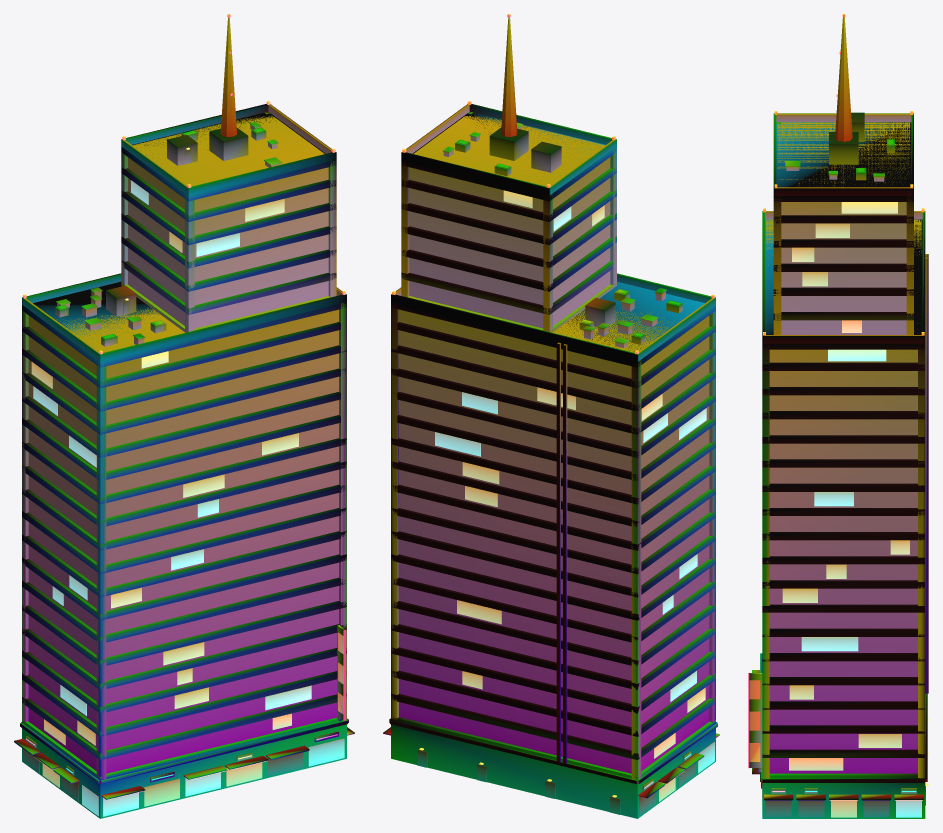
The model's file is Tower_Slab_V3.fbx.
3 views of the same model, side by side, from view 1: azimuth 30°, elevation 25°; view 2: azimuth 150°, elevation 25°; view 3: azimuth 270°, elevation 25° (orthographic). The views are drawn at different scales.
Visible parts, largest first — view 1: Tower_Slab_V3_LOD0; view 2: Tower_Slab_V3_LOD0; view 3: Tower_Slab_V3_LOD0.
Part boxes in pixels (x1=…): Tower_Slab_V3_LOD0: x1=14, y1=14, x2=354, y2=818; Tower_Slab_V3_LOD0: x1=383, y1=14, x2=719, y2=818; Tower_Slab_V3_LOD0: x1=748, y1=14, x2=928, y2=818.
Size of what is drawn, in the model's own units: 42.8 by 114 by 24.31.
